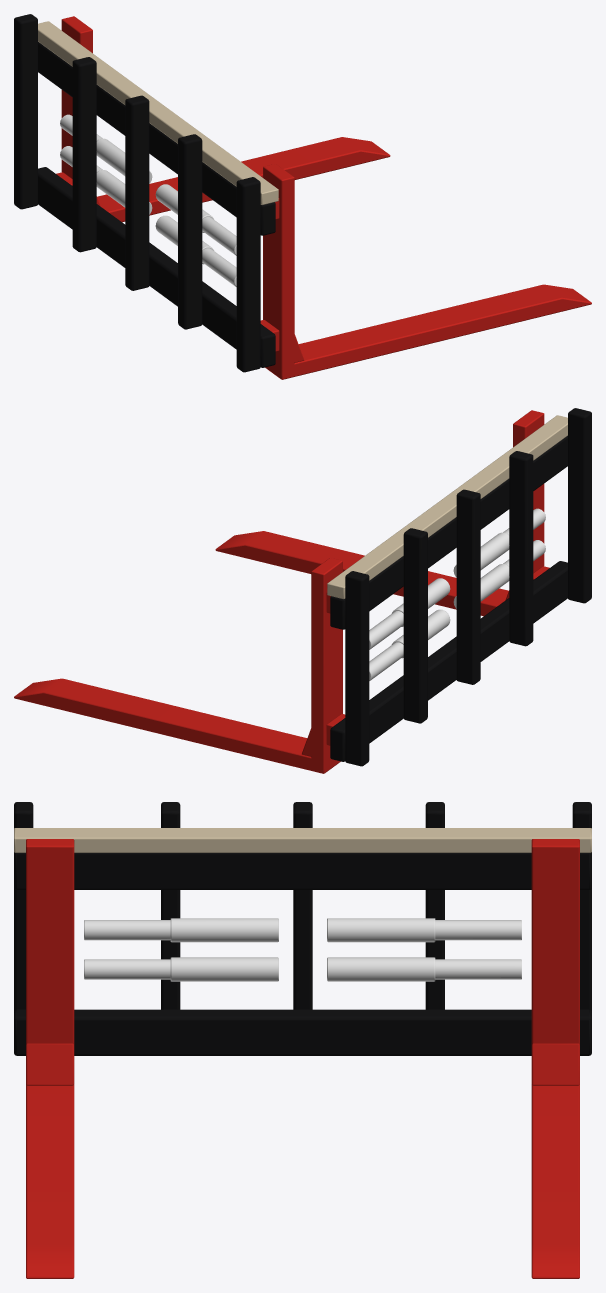
The model's file is forklift_carriage.glb.
The picture shows the model from 3 angles, top to bottom: view 1: azimuth 30°, elevation 25°; view 2: azimuth 150°, elevation 25°; view 3: azimuth 270°, elevation 25°; orthographic projection. The views are drawn at different scales.
Parts seen in each view (by area): view 1: ForkliftCarriage, ForkliftForkL, ForkliftForkR, ForkliftCarriageWear, ForkliftPositioner; view 2: ForkliftCarriage, ForkliftForkR, ForkliftForkL, ForkliftCarriageWear, ForkliftPositioner; view 3: ForkliftCarriage, ForkliftForkL, ForkliftForkR, ForkliftPositioner, ForkliftCarriageWear.
Boxes of the visible parts, <box> form: ForkliftCarriage: <box>14,14,275,372</box>; ForkliftForkL: <box>260,164,591,379</box>; ForkliftForkR: <box>56,16,390,222</box>; ForkliftCarriageWear: <box>38,21,278,204</box>; ForkliftPositioner: <box>60,114,236,286</box>; ForkliftCarriage: <box>330,408,591,766</box>; ForkliftForkR: <box>14,558,345,773</box>; ForkliftForkL: <box>215,410,549,616</box>; ForkliftCarriageWear: <box>327,415,567,598</box>; ForkliftPositioner: <box>369,508,545,680</box>; ForkliftCarriage: <box>14,802,591,1055</box>; ForkliftForkL: <box>26,839,74,1278</box>; ForkliftForkR: <box>531,839,579,1278</box>; ForkliftPositioner: <box>84,918,521,981</box>; ForkliftCarriageWear: <box>14,828,591,852</box>.
Size of the model in its own units: 2.13 by 1.2 by 2.4.
